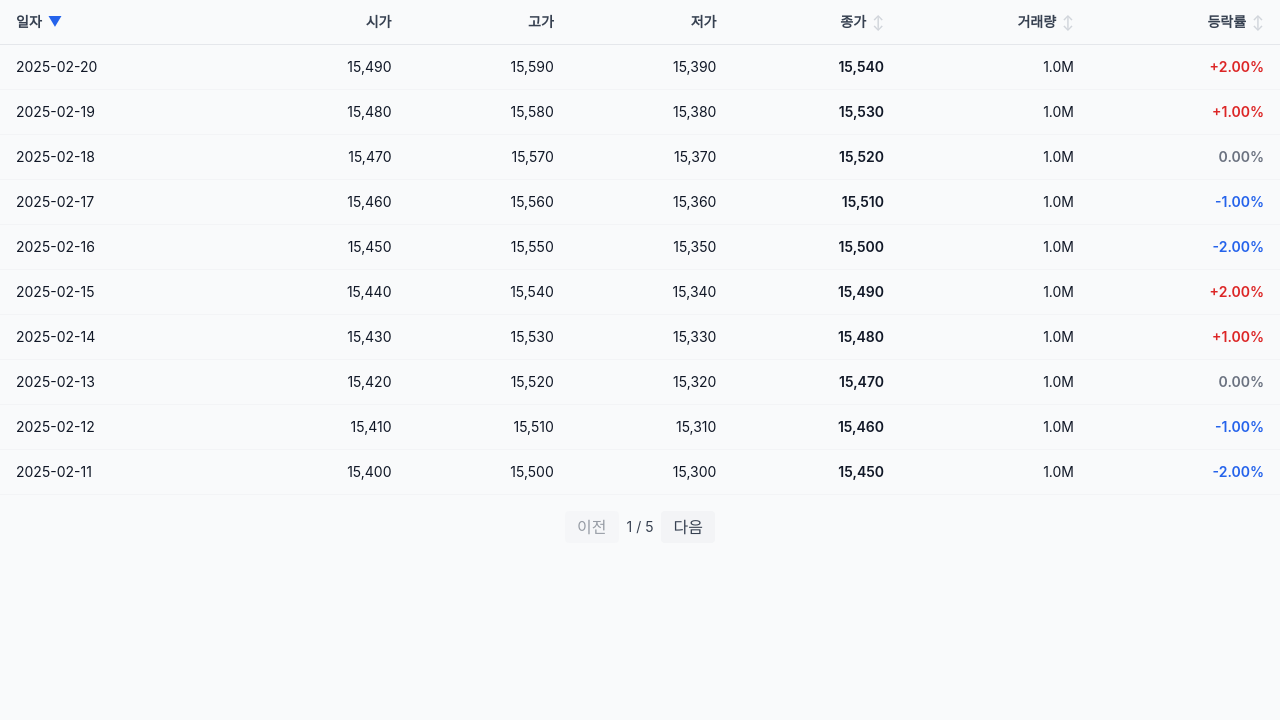
it: PriceTable › 페이지네이션 › 마지막 페이지에서 다음 버튼이 비활성화된다
This screenshot has width=1280, height=720.
Click the button "다음".
click(688, 527)  # box x1=662 y1=511 x2=715 y2=543
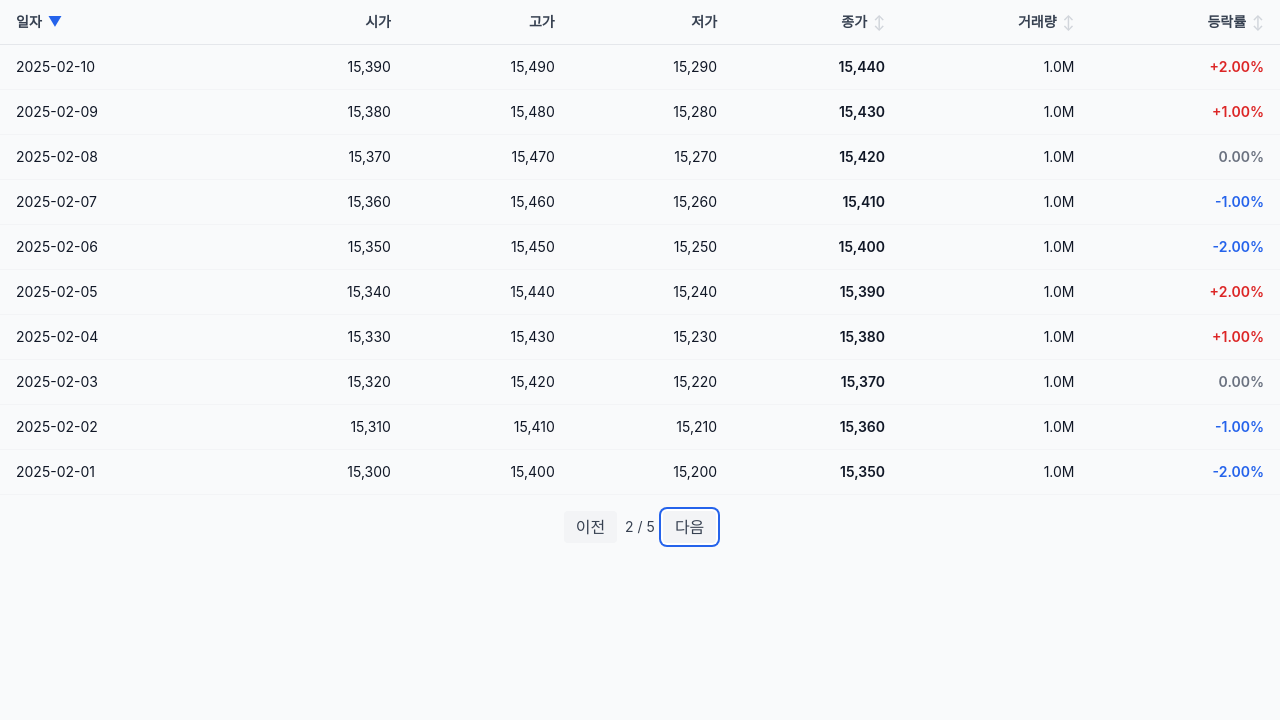
Click the button "다음".
click(690, 527)  # box x1=663 y1=511 x2=716 y2=543
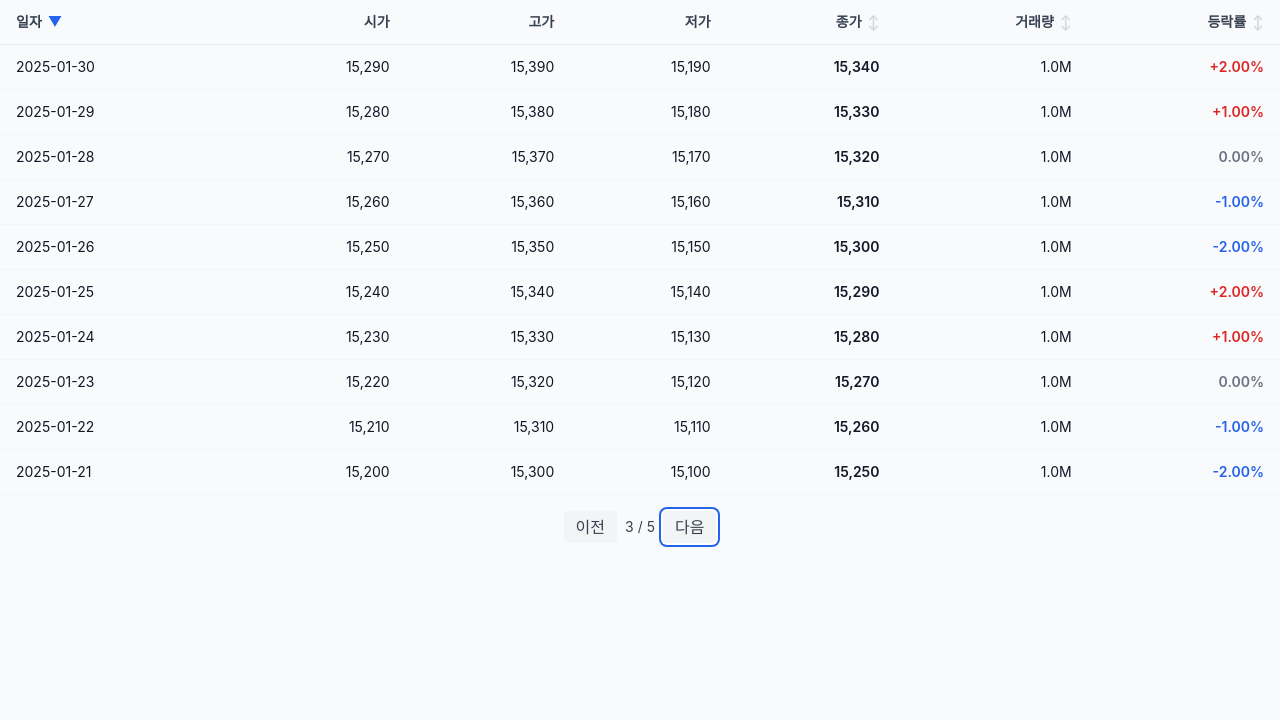
Click the button "다음".
click(690, 527)  # box x1=663 y1=511 x2=716 y2=543
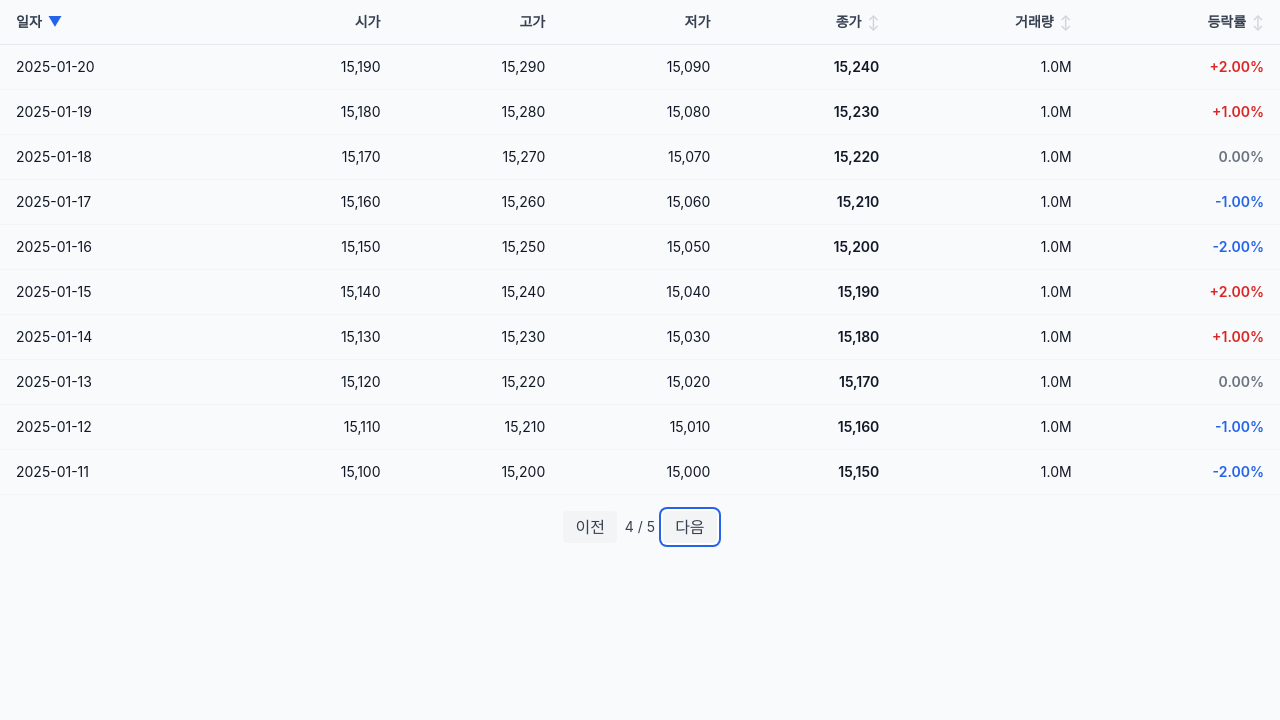
Click the button "다음".
click(690, 527)  # box x1=663 y1=511 x2=717 y2=543
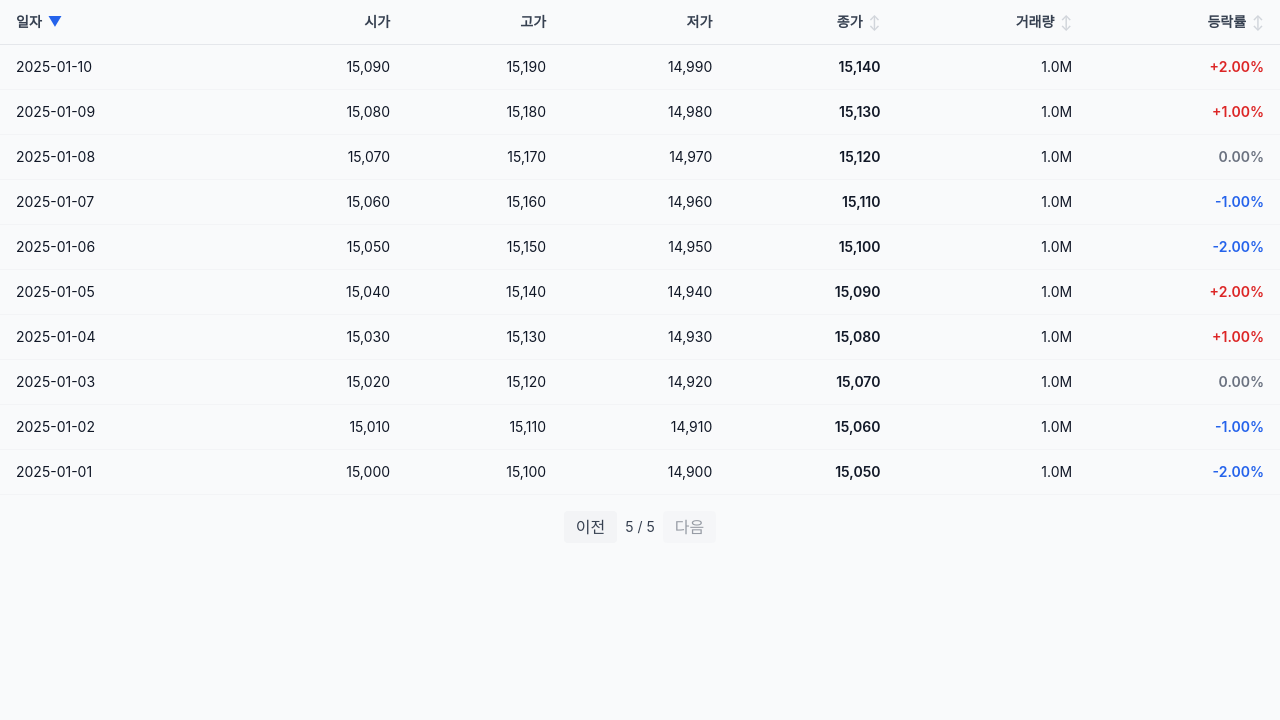
expect the text "5 / 5" is shown: met, box x1=625 y1=517 x2=655 y2=537
expect the button "다음" is disabled: met, box x1=663 y1=511 x2=716 y2=543
